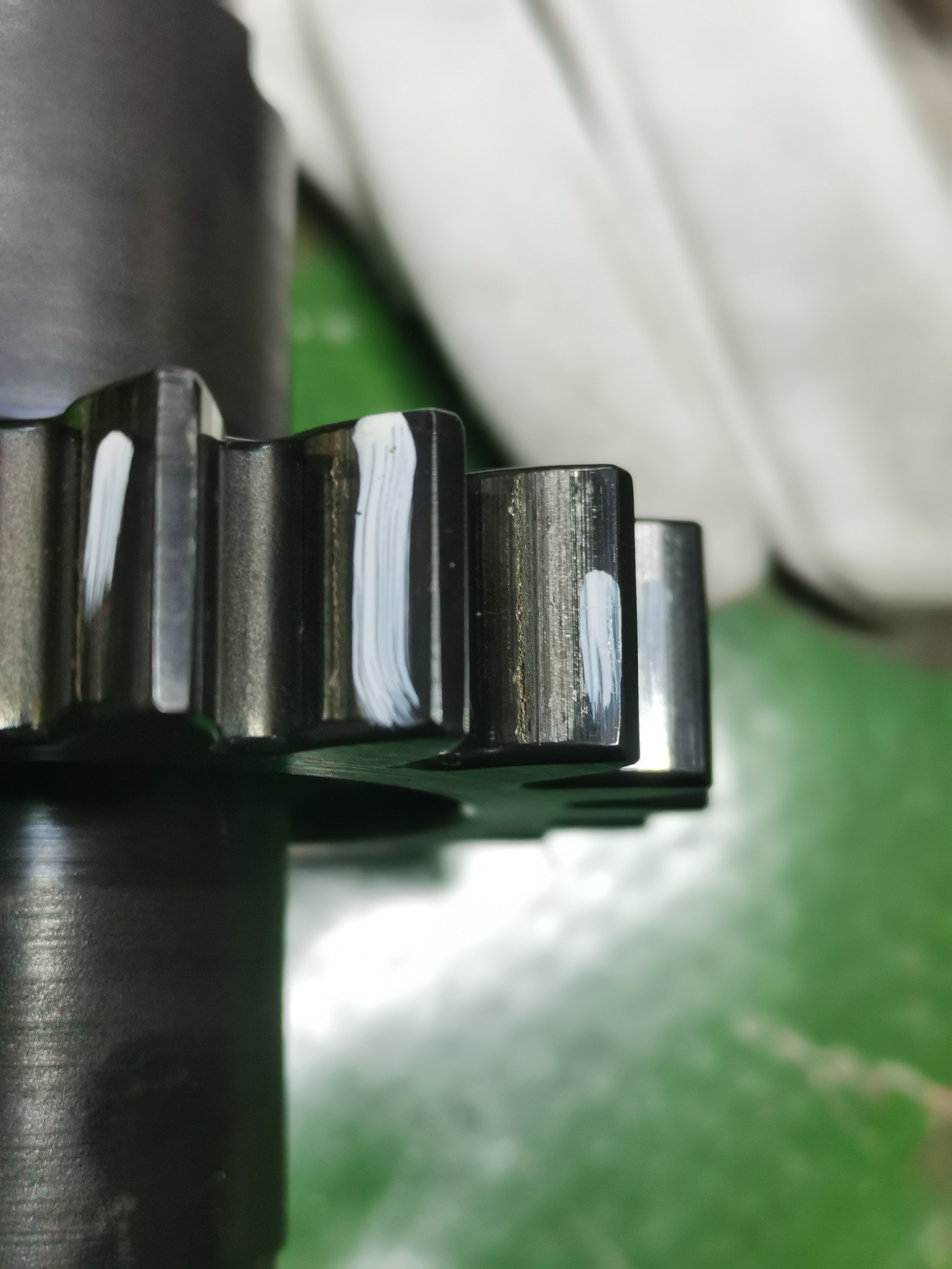Abrasion: (289, 429, 436, 725), (472, 465, 625, 749), (633, 518, 709, 772)
